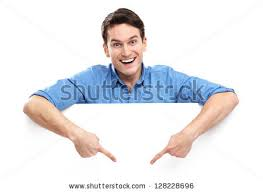hand: (67, 121, 126, 169), (140, 125, 198, 172)
